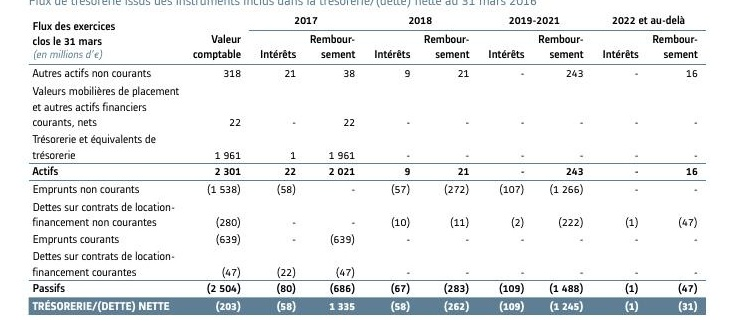table: (0, 0, 733, 334)
